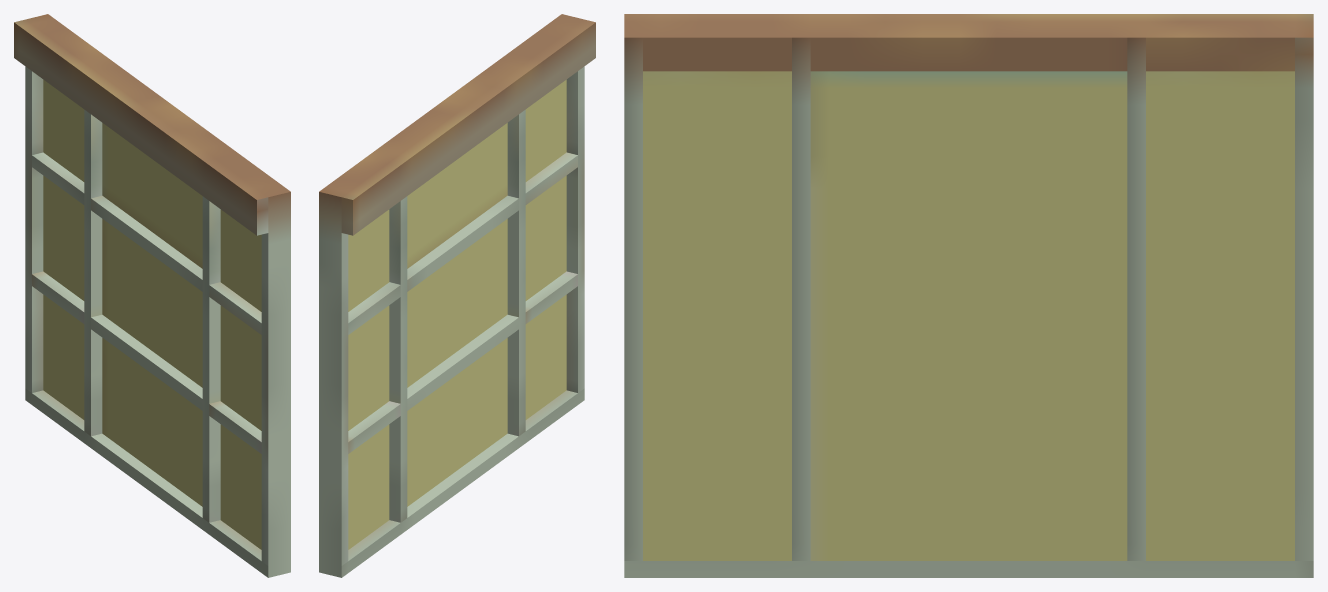
The model's file is WindowFrameLargeOutside_00.obj.
3 views of the same model, side by side, from view 1: azimuth 30°, elevation 25°; view 2: azimuth 150°, elevation 25°; view 3: azimuth 270°, elevation 25° (orthographic). The views are drawn at different scales.
Visible parts, largest first — view 1: WindowFrameLargeOutside_00; view 2: WindowFrameLargeOutside_00; view 3: WindowFrameLargeOutside_00.
Boxes of the visible parts, left/top/right/bottom form: WindowFrameLargeOutside_00: left=14, top=14, right=290, bottom=577; WindowFrameLargeOutside_00: left=319, top=14, right=595, bottom=577; WindowFrameLargeOutside_00: left=624, top=14, right=1313, bottom=577.
Bounding box in the file's own units: 0.15 × 1.6 × 1.85.
